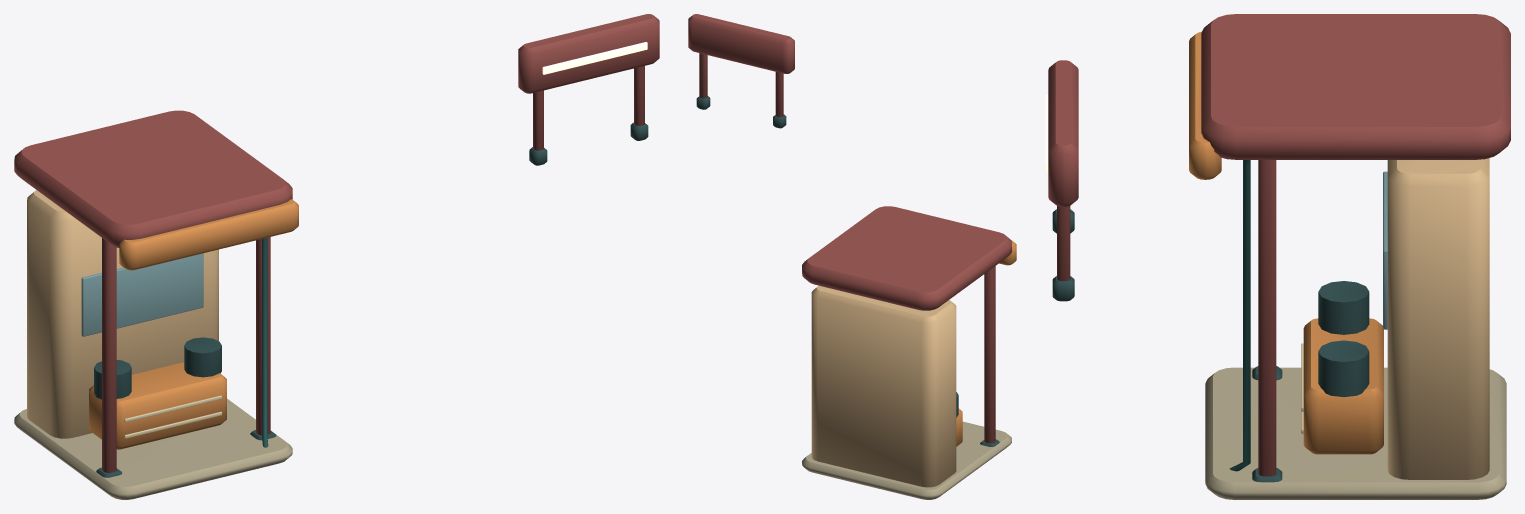
File: route66_workshop_4.glb
3 views of the same model, side by side, from view 1: azimuth 30°, elevation 25°; view 2: azimuth 150°, elevation 25°; view 3: azimuth 270°, elevation 25° (orthographic). The views are drawn at different scales.
Visible parts, largest first — view 1: Route66Workshop4; view 2: Route66Workshop4; view 3: Route66Workshop4.
Boxes of the visible parts, x1,y1,x2,y2 form: Route66Workshop4: [14, 14, 659, 499]; Route66Workshop4: [688, 14, 1016, 499]; Route66Workshop4: [1045, 14, 1510, 499].
Size of the model in its own units: 6.28 by 5.05 by 3.84.
